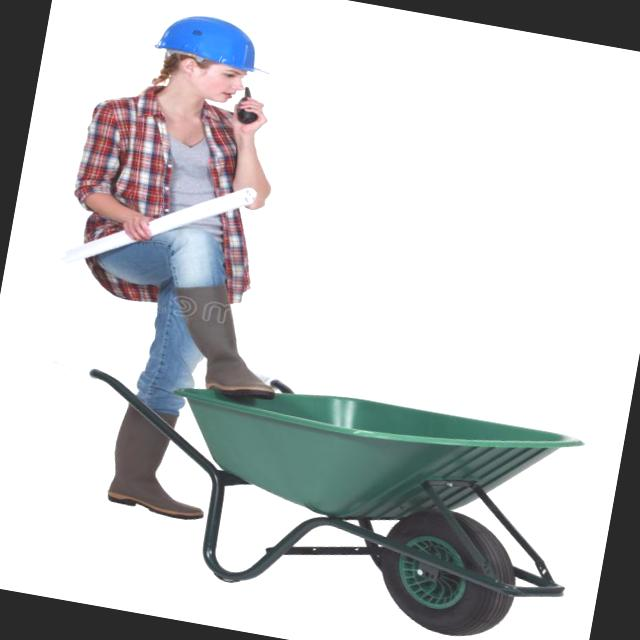helmet: (146, 2, 280, 86)
no-vest: (56, 87, 292, 307)
